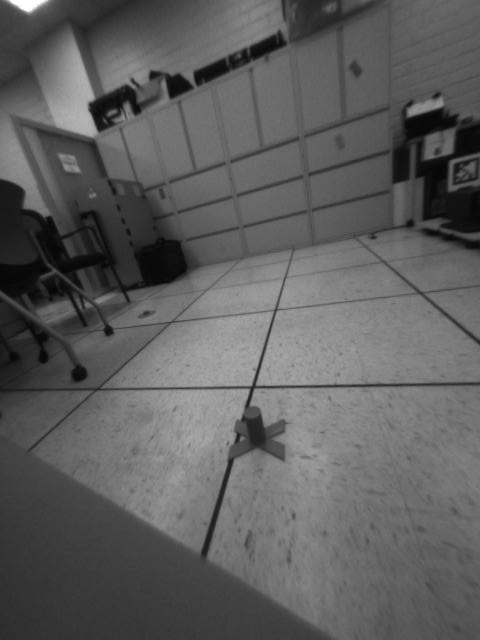X: (226, 406, 289, 464)
